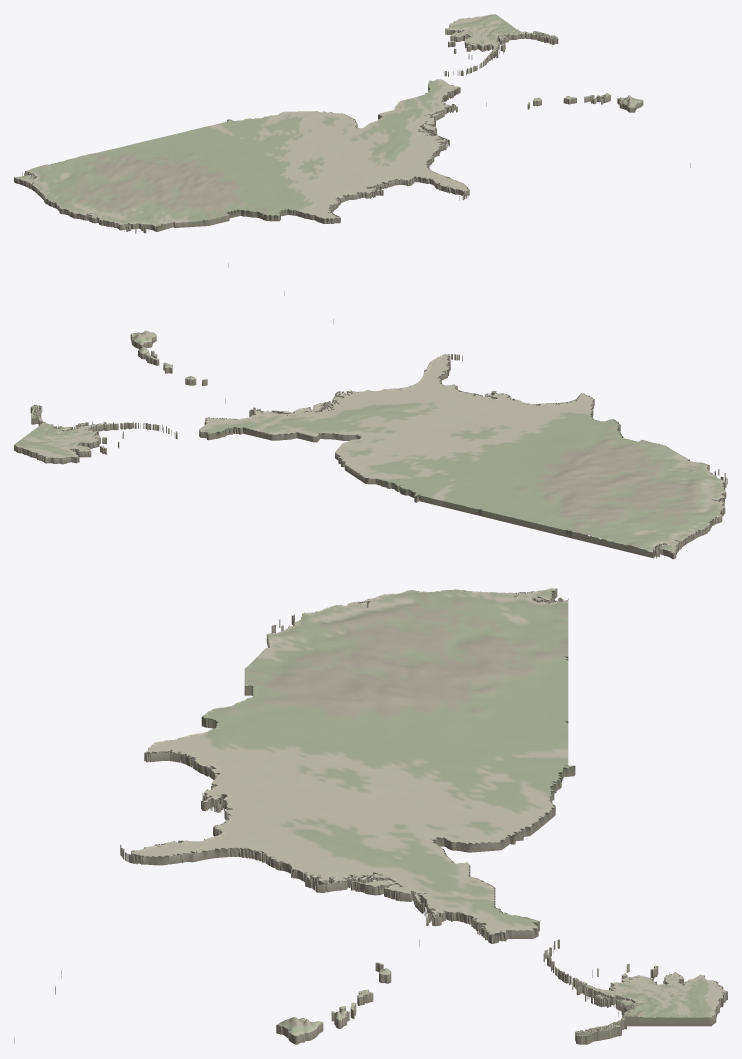
File: us-desktop.glb
The picture shows the model from 3 angles, top to bottom: view 1: azimuth 30°, elevation 25°; view 2: azimuth 150°, elevation 25°; view 3: azimuth 270°, elevation 25°; orthographic projection. The views are drawn at different scales.
Size of the model in its own units: 129 by 2.33 by 86.79.
